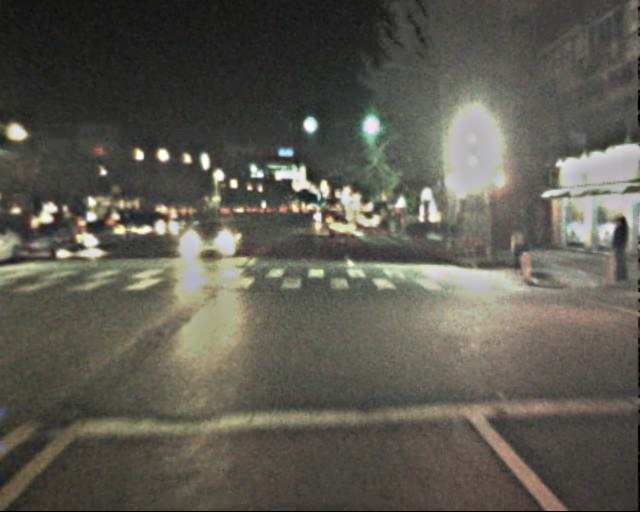person: (607, 216, 637, 289), (506, 218, 532, 278)
